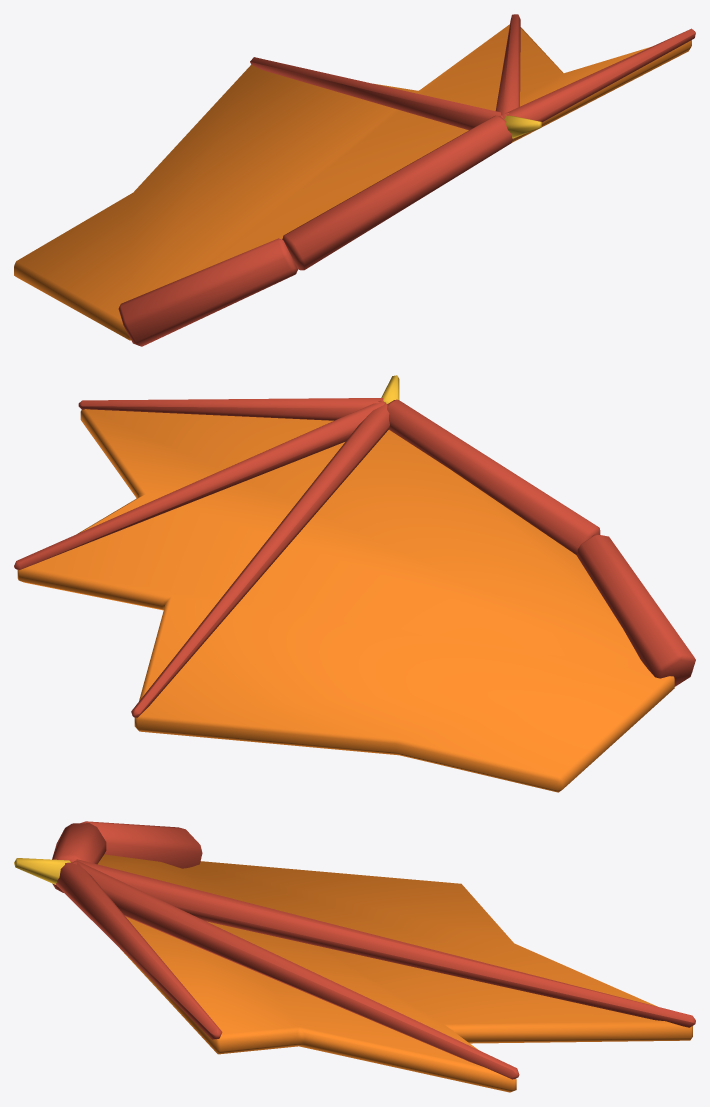
File: X_MedDragonWingR.fbx
3 views of the same model, one above another, from view 1: azimuth 30°, elevation 25°; view 2: azimuth 150°, elevation 25°; view 3: azimuth 270°, elevation 25° (orthographic). The views are drawn at different scales.
Visible parts, largest first — view 1: M_DragonWingR; view 2: M_DragonWingR; view 3: M_DragonWingR.
Part boxes in pixels (x1,y1,x2,y2): M_DragonWingR: (14,14,695,346); M_DragonWingR: (14,375,695,792); M_DragonWingR: (14,821,695,1092).
Bounding box in the file's own units: 3.05 × 0.9975 × 2.45.
1 material, 1 textured.
